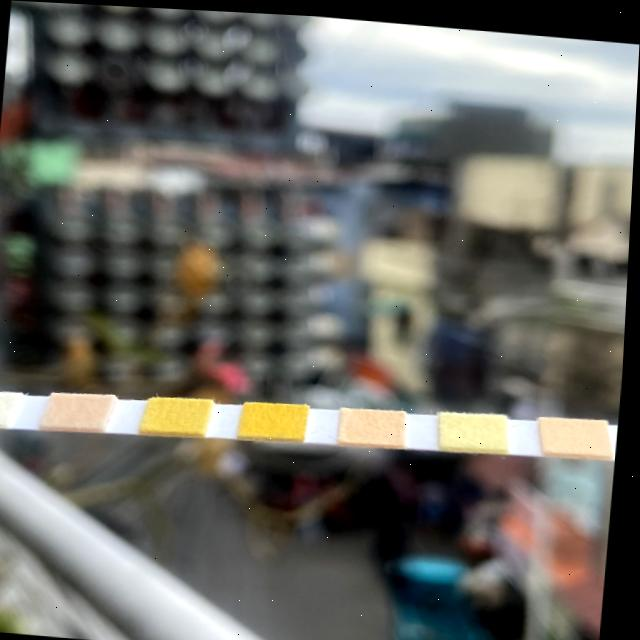Bilirubin: (0, 393, 13, 424)
Blood: (248, 399, 307, 435)
Ketone: (56, 392, 106, 428)
Protein: (446, 408, 509, 444)
SpGravity: (152, 396, 209, 431)
Urobilinogen: (551, 411, 610, 447)
pH: (344, 404, 406, 441)
